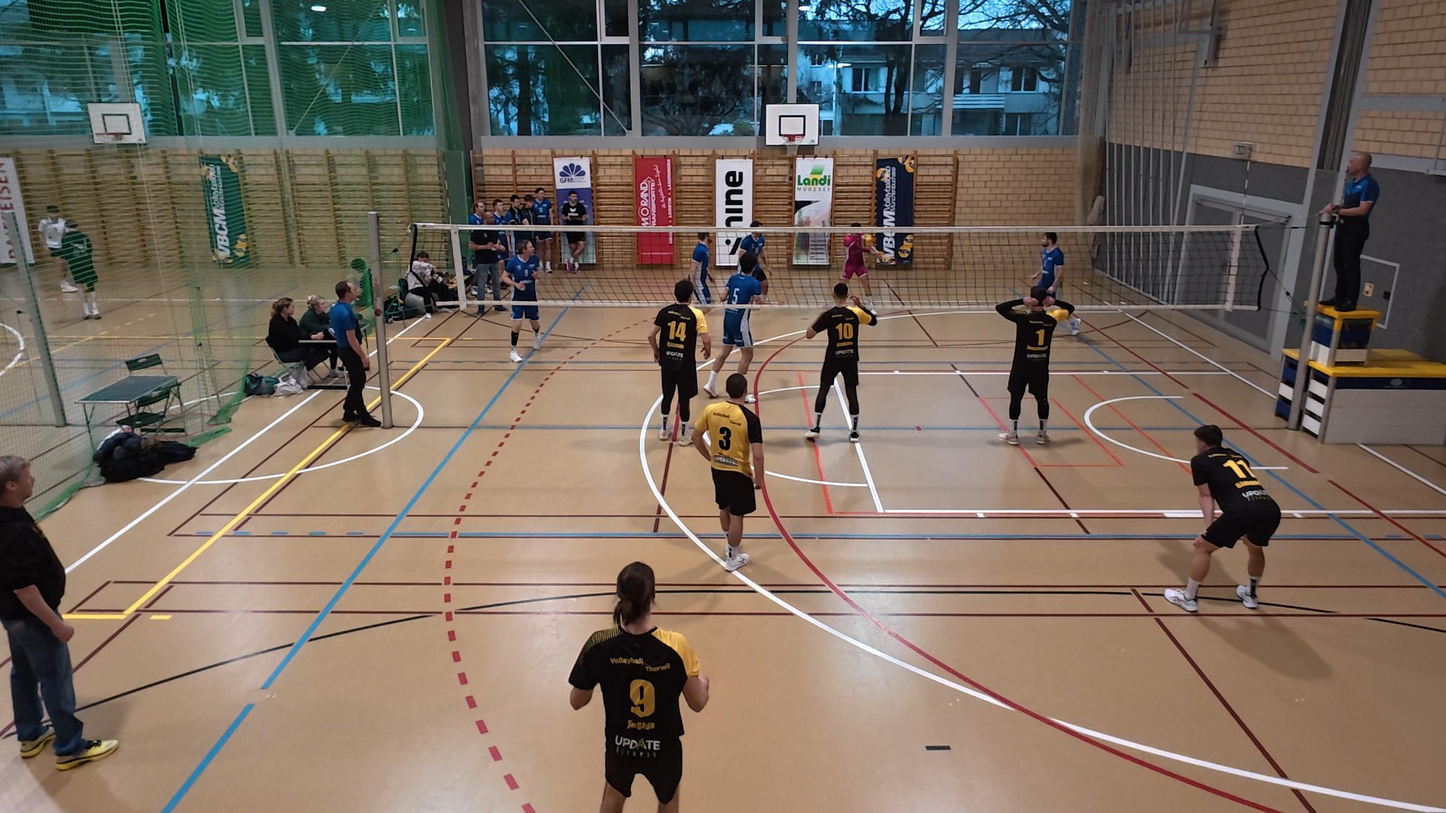ricezione: (837, 222, 874, 302)
